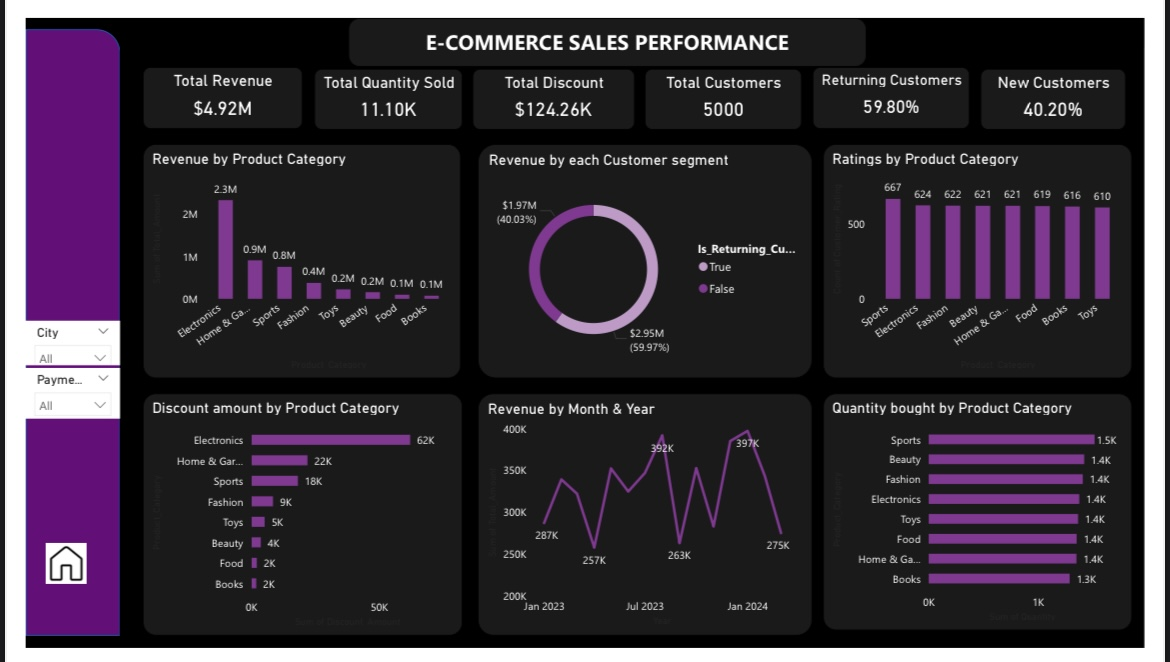

What the dashboard file says about the page in this screenshot:
{"tool":"powerbi","page":{"name":"Page 1","canvas":[1280,720],"ordinal":0},"visuals":[{"type":"clusteredColumnChart","title":"Revenue by Product Category","fields":{"Category":["Table1.Product_Category"],"Y":["Sum(Table1.Total_Amount)"]},"box":[133.9,144,364.3,267.8],"z":0},{"type":"lineChart","title":"Revenue by Month & Year","fields":{"Category":["Table1.Date.Variation.Date Hierarchy.Year","Table1.Date.Variation.Date Hierarchy.Month"],"Y":["Sum(Table1.Total_Amount)"]},"box":[517,429.1,383,276.5],"z":1000},{"type":"card","title":"Total Customers","fields":{"Values":["Table1.Total Customers"]},"box":[708.5,57.6,180,70.6],"z":2000},{"type":"card","title":"Total Revenue","fields":{"Values":["Table1.Total revenue"]},"box":[133.9,56.2,182.9,70.6],"z":3000},{"type":"card","title":"Total Quantity Sold","fields":{"Values":["Table1.Total Quantity"]},"box":[329.8,57.6,169.9,70.6],"z":4000},{"type":"card","title":"Total Discount","fields":{"Values":["Table1.Total discount"]},"box":[511.2,57.6,185.8,70.6],"z":5000},{"type":"card","title":"Returning Customers","fields":{"Values":["Table1.Returning Customers"]},"box":[900,56.2,180,70.6],"z":6000},{"type":"card","title":"New Customers","fields":{"Values":["Table1.New Customers"]},"box":[1091.5,57.6,167,70.6],"z":7000},{"type":"donutChart","title":" Revenue by each Customer segment","fields":{"Category":["Table1.Is_Returning_Customer"],"Y":["Table1.Total revenue"]},"box":[517,144,383,267.8],"z":8000},{"type":"barChart","title":"Quantity bought by Product Category","fields":{"Category":["Table1.Product_Category"],"Y":["Sum(Table1.Quantity)"]},"box":[911.5,429.1,354.2,270.7],"z":9000},{"type":"barChart","title":"Discount amount by Product Category","fields":{"Category":["Table1.Product_Category"],"Y":["Sum(Table1.Discount_Amount)"]},"box":[133.9,429.1,365.8,276.5],"z":10000},{"type":"columnChart","title":"Ratings by Product Category","fields":{"Category":["Table1.Product_Category"],"Y":["CountNonNull(Table1.Customer_Rating)"]},"box":[911.5,144,354.2,267.8],"z":11000},{"type":"textbox","box":[368.6,0,593.3,56.2],"z":12000},{"type":"shape","box":[0,13,108,692.6],"z":13000},{"type":"slicer","fields":{"Values":["Table1.City"]},"box":[0,345.6,108,51.8],"z":14000},{"type":"image","box":[14.4,597.6,64.8,51.8],"z":15000},{"type":"slicer","fields":{"Values":["Table1.Payment_Method"]},"box":[0,400.3,108,57.6],"z":16000}]}

Visuals, with their boxes in screenshot pixels (x1, y1, x2, y2), scaled from the page's 1280x720 canvas onto the 1170x662 screenshot:
"Revenue by Product Category" clusteredColumnChart: crop(122, 132, 455, 379)
"Revenue by Month & Year" lineChart: crop(473, 395, 823, 649)
"Total Customers" card: crop(648, 53, 812, 118)
"Total Revenue" card: crop(122, 52, 290, 117)
"Total Quantity Sold" card: crop(301, 53, 457, 118)
"Total Discount" card: crop(467, 53, 637, 118)
"Returning Customers" card: crop(823, 52, 987, 117)
"New Customers" card: crop(998, 53, 1150, 118)
" Revenue by each Customer segment" donutChart: crop(473, 132, 823, 379)
"Quantity bought by Product Category" barChart: crop(833, 395, 1157, 643)
"Discount amount by Product Category" barChart: crop(122, 395, 457, 649)
"Ratings by Product Category" columnChart: crop(833, 132, 1157, 379)
textbox: crop(337, 0, 879, 52)
shape: crop(0, 12, 99, 649)
slicer - Table1.City: crop(0, 318, 99, 365)
image: crop(13, 549, 72, 597)
slicer - Table1.Payment_Method: crop(0, 368, 99, 421)
